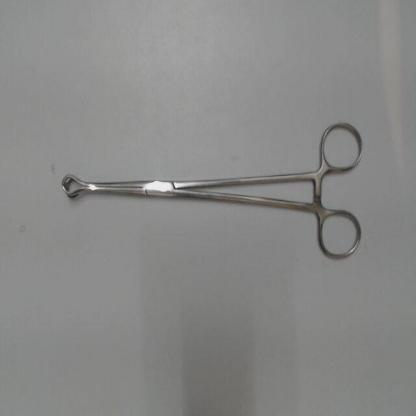8 Babcock Tissue Forceps: (54, 112, 364, 268)
